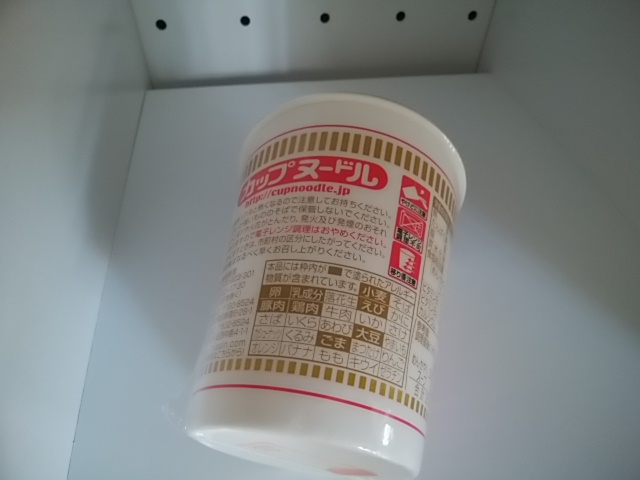cup-ramen: (182, 92, 471, 480)
